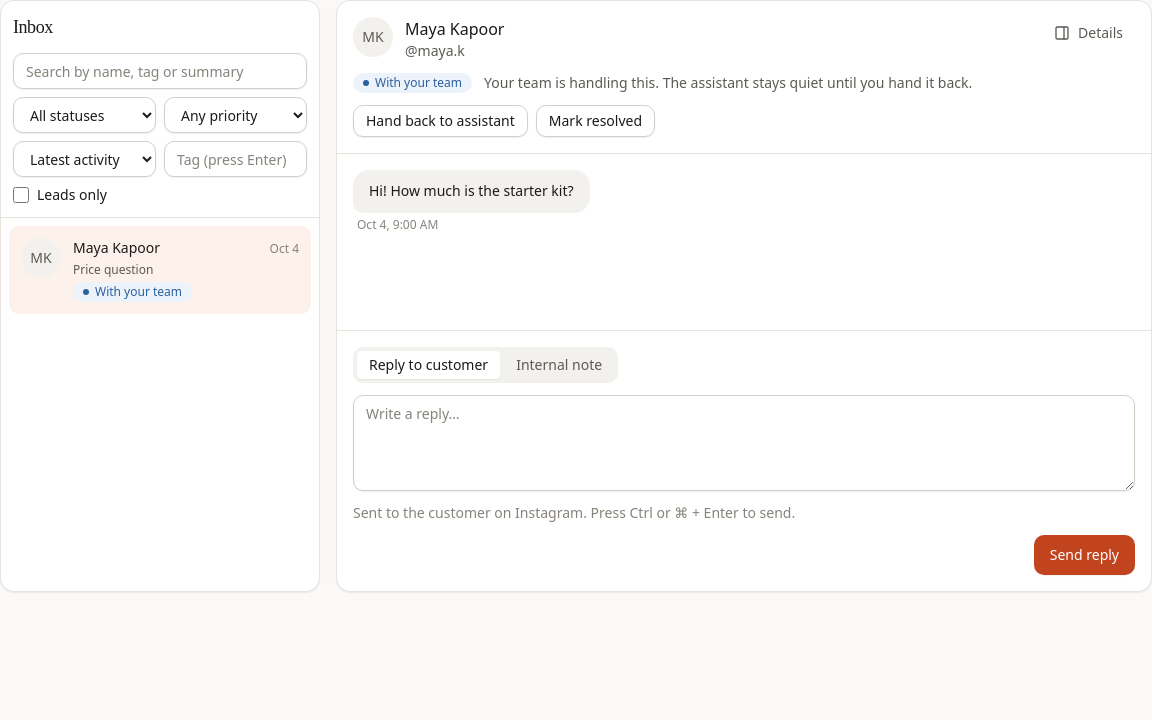
Test case: internal notes › posts notes to /notes, never /messages, and shows them as team-only
This screenshot has width=1152, height=720.
Click the radio button labelled "Internal note" at (559, 364), box [516,355,602,374]
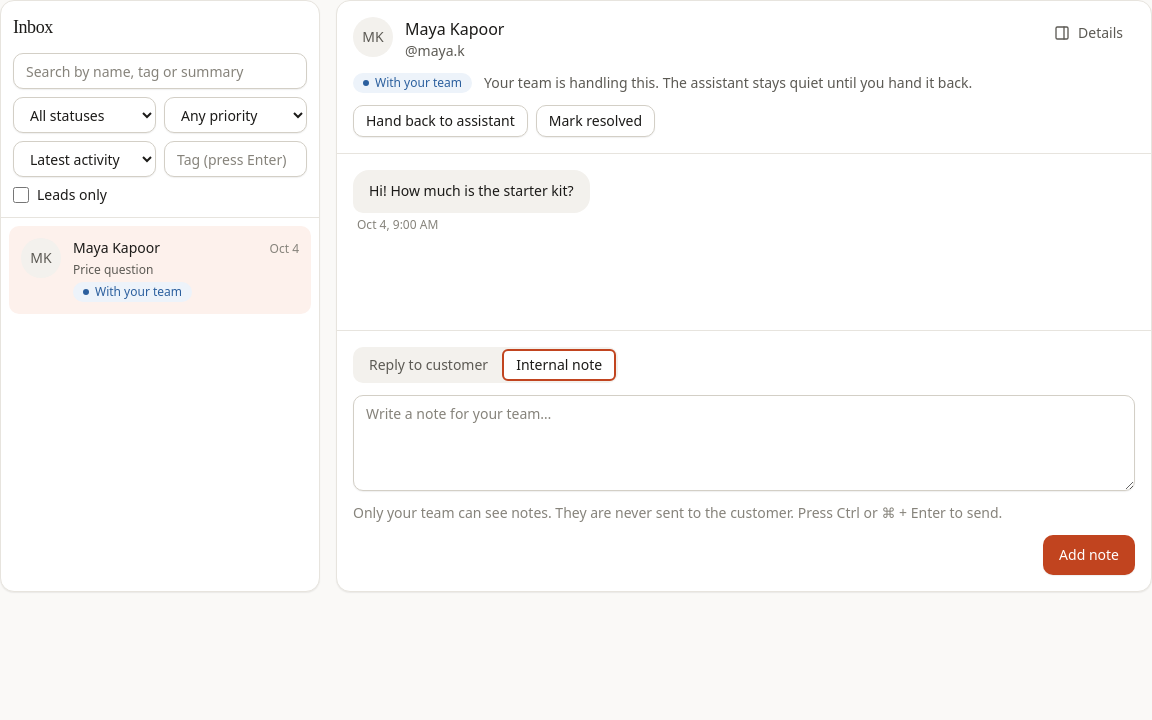
Expected: the text "Only your team can see notes. They are never sent to the customer" is shown, [353,503,794,522]
Type "Repeat buyer, offer free shipping." into the text box named "Internal note" at (744, 443), box [353,395,1135,491]
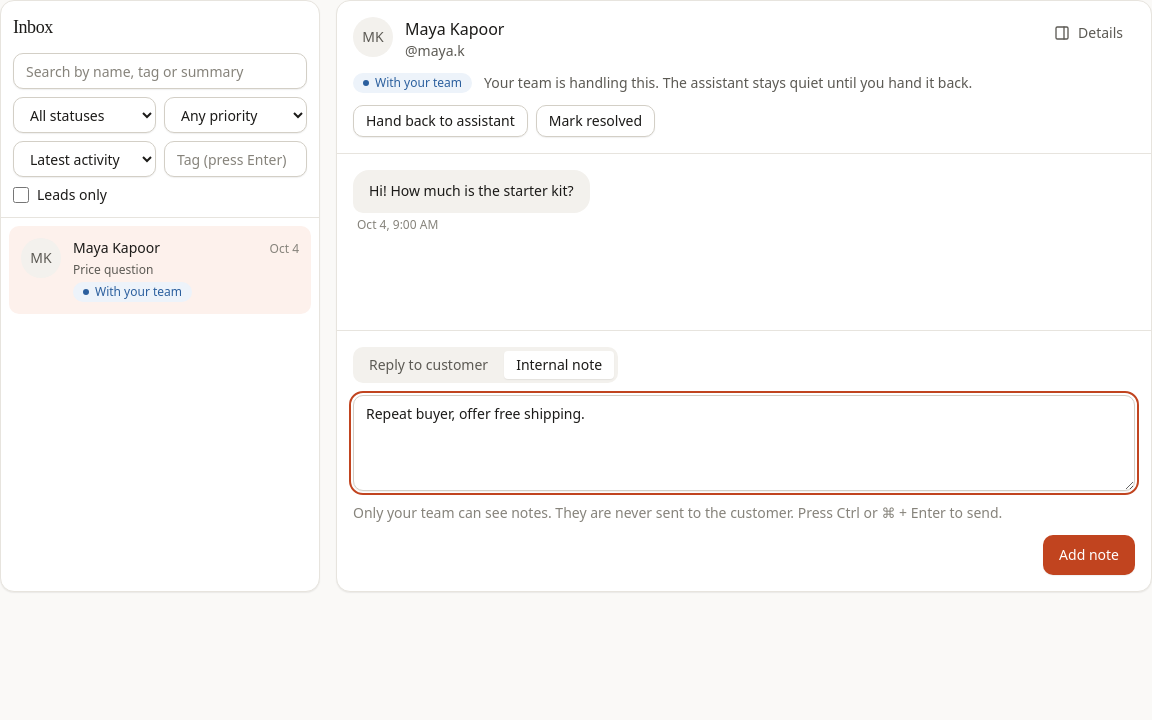
Click the button "Add note" at (1089, 555), box [1043,535,1135,575]
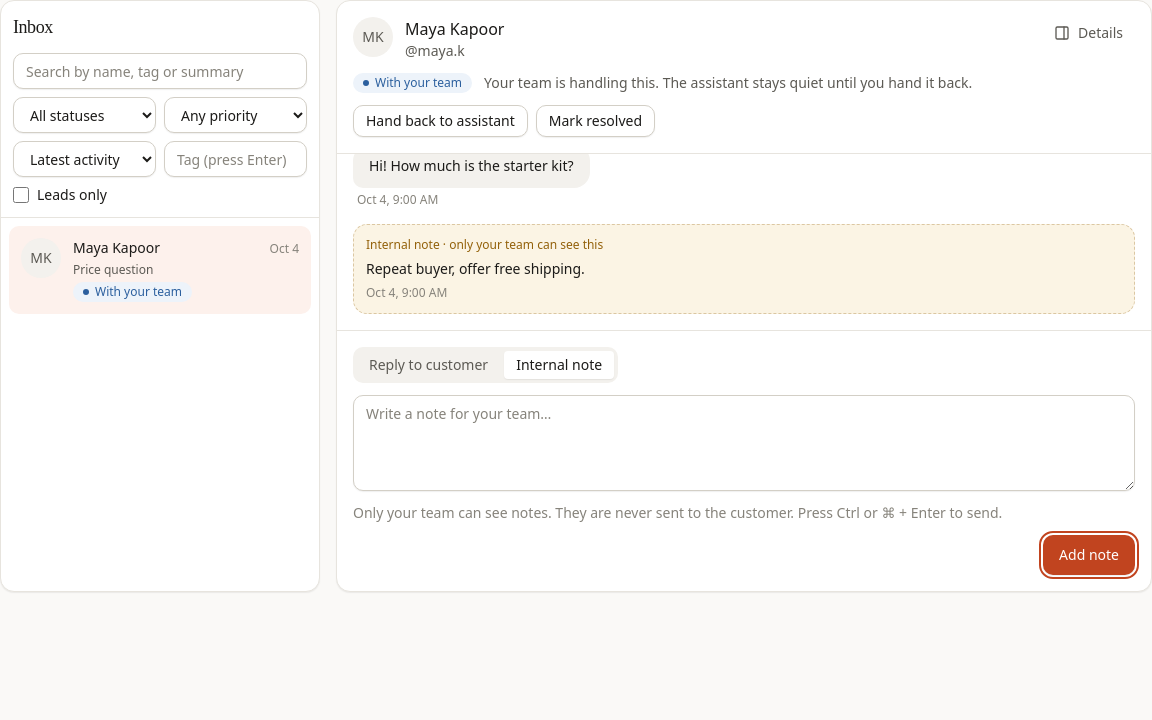
Expected: the text "Internal note · only your team can see this" is shown, [366,236,603,253]
